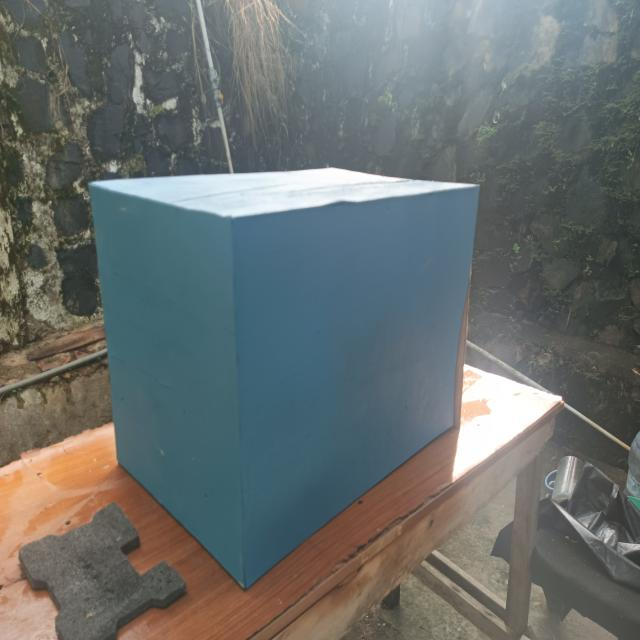blue_box: (88, 157, 481, 545)
